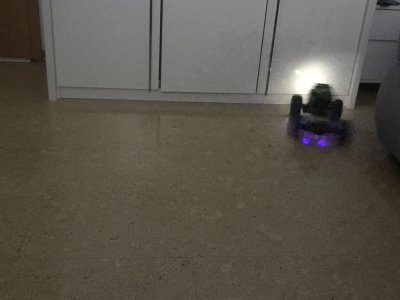remote control car: (285, 80, 350, 148)
